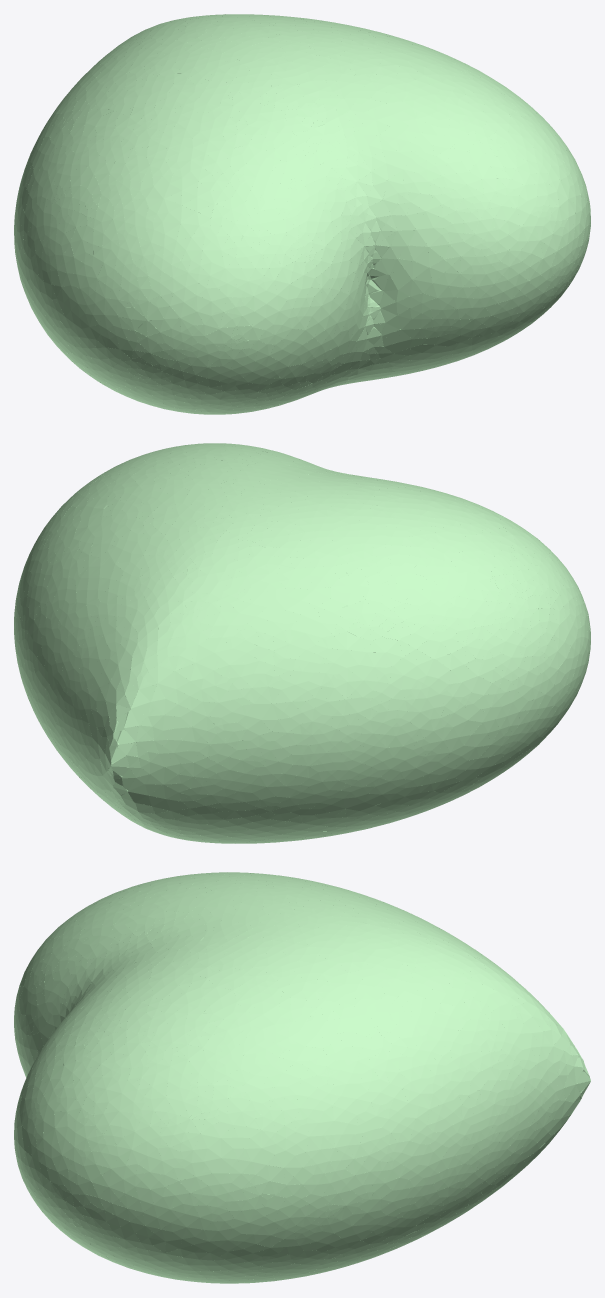
Rendered from implicit_vorolight_2.glb.
3 renders of one model, top to bottom at view 1: azimuth 30°, elevation 25°; view 2: azimuth 150°, elevation 25°; view 3: azimuth 270°, elevation 25°, orthographic.
Size of the model in its own units: 1.82 by 1.09 by 1.78.
